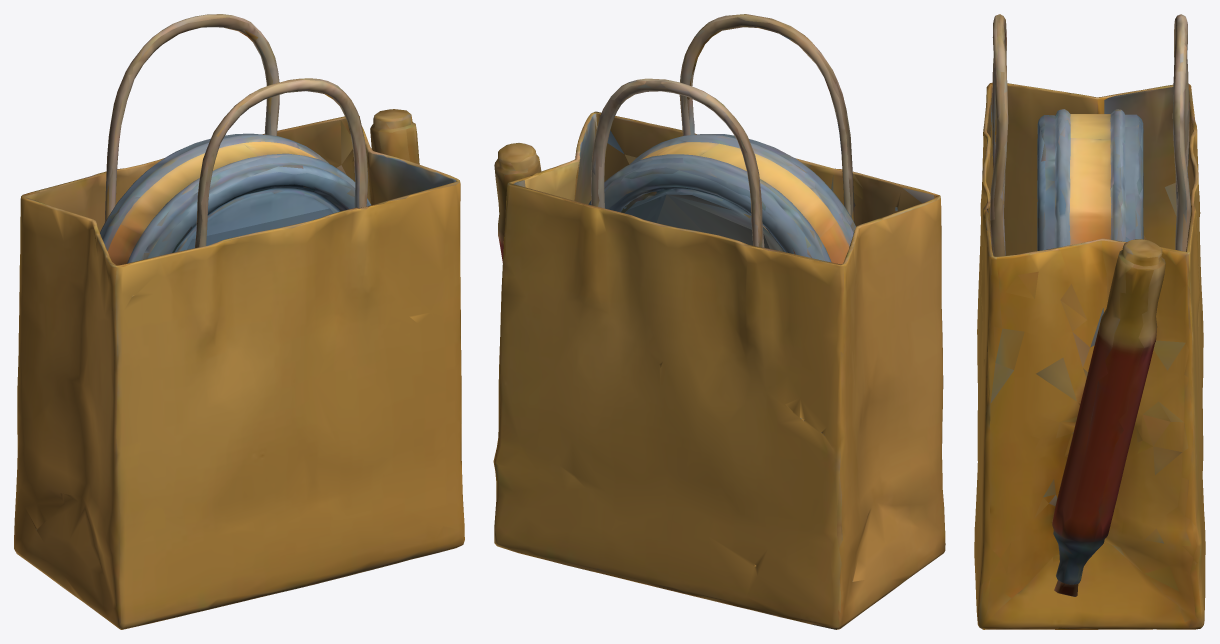
Rendered from sc-lunch-satchel.glb.
3 views of the same model, side by side, from view 1: azimuth 30°, elevation 25°; view 2: azimuth 150°, elevation 25°; view 3: azimuth 270°, elevation 25° (orthographic). The views are drawn at different scales.
Parts seen in each view (by area): view 1: geometry_0; view 2: geometry_0; view 3: geometry_0.
Boxes of the visible parts, left/top/right/bottom form: geometry_0: left=14, top=14, right=464, bottom=629; geometry_0: left=493, top=14, right=945, bottom=629; geometry_0: left=974, top=14, right=1205, bottom=629.
Size of the model in its own units: 0.782 by 1 by 0.4018.
1 material, 1 textured.
